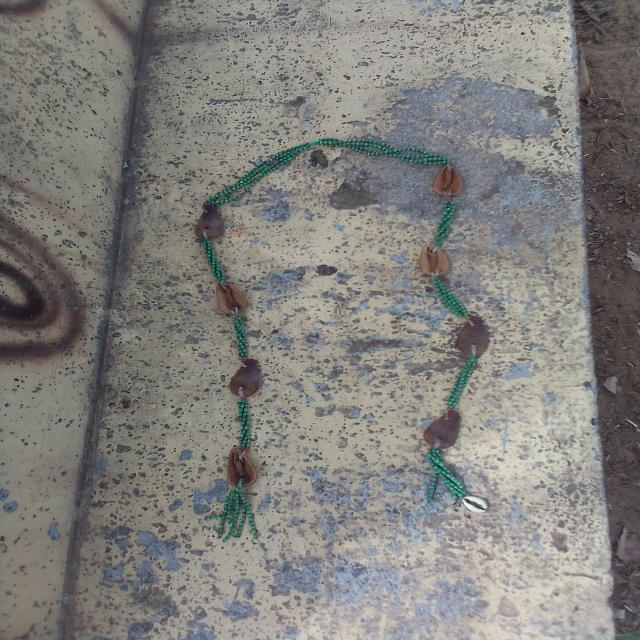facedown: (452, 314, 491, 361), (421, 407, 462, 450), (228, 356, 264, 398), (192, 204, 227, 243)
faceup: (212, 277, 250, 318), (225, 444, 259, 489), (432, 158, 466, 199), (417, 240, 451, 279)
